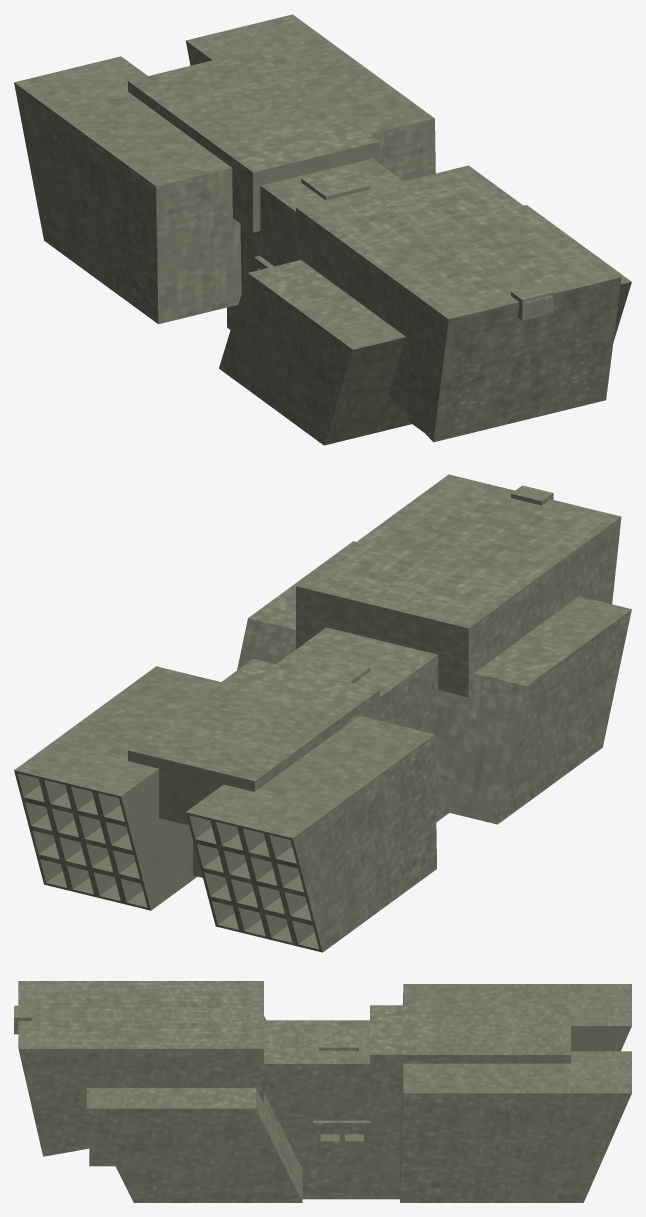
The model's file is SGCarrier.obj.
3 renders of one model, top to bottom at view 1: azimuth 30°, elevation 25°; view 2: azimuth 150°, elevation 25°; view 3: azimuth 270°, elevation 25°, orthographic. The views are drawn at different scales.
Visible parts, largest first — view 1: Carrier_ShipMesh; view 2: Carrier_ShipMesh; view 3: Carrier_ShipMesh.
Part boxes in pixels (<box>): Carrier_ShipMesh: <box>14,14,631,445</box>; Carrier_ShipMesh: <box>14,474,631,952</box>; Carrier_ShipMesh: <box>14,981,631,1202</box>.
Size of the model in its own units: 9.7 by 6.91 by 23.18.
1 material, 1 textured.
